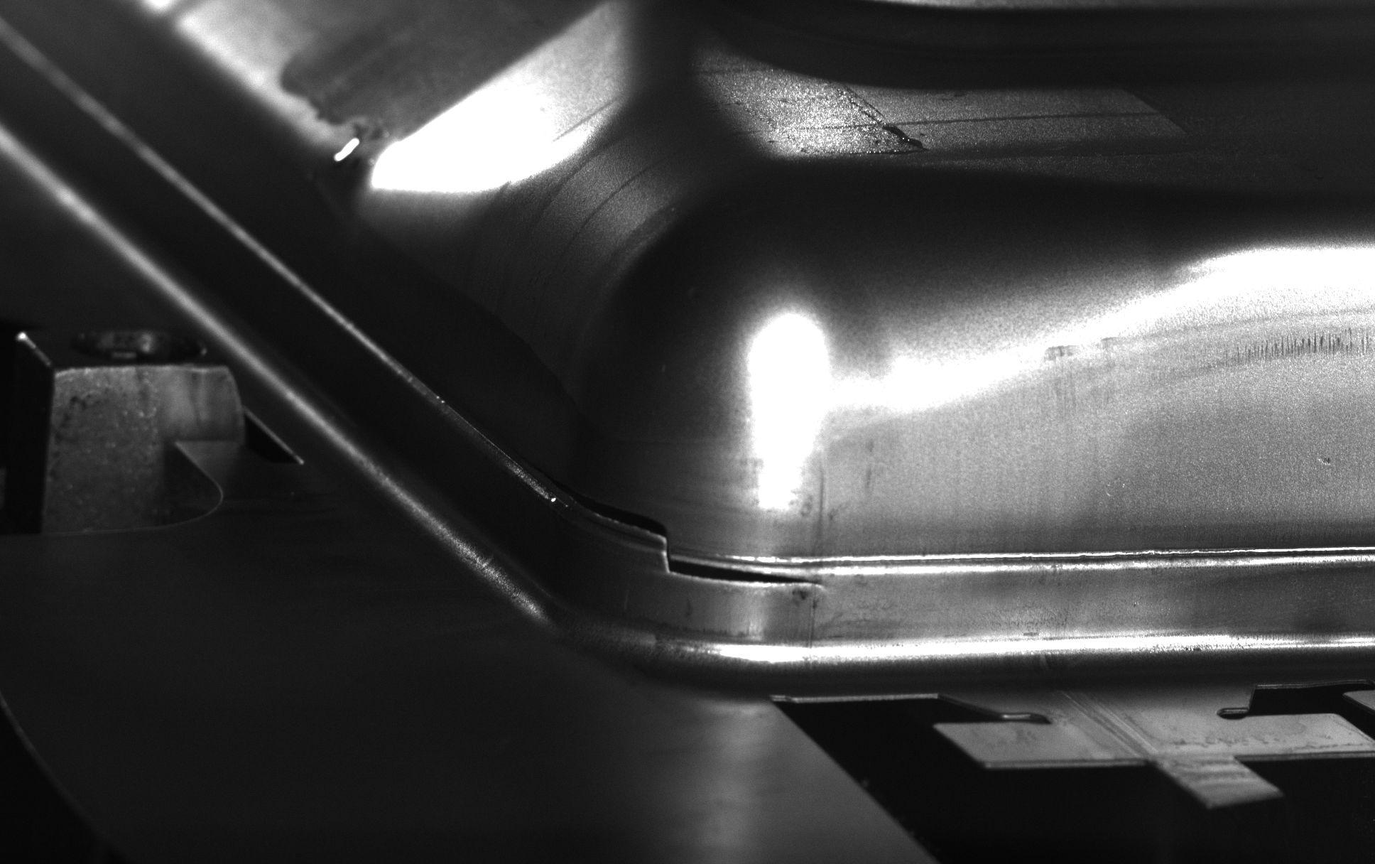crack: (474, 384, 846, 602)
